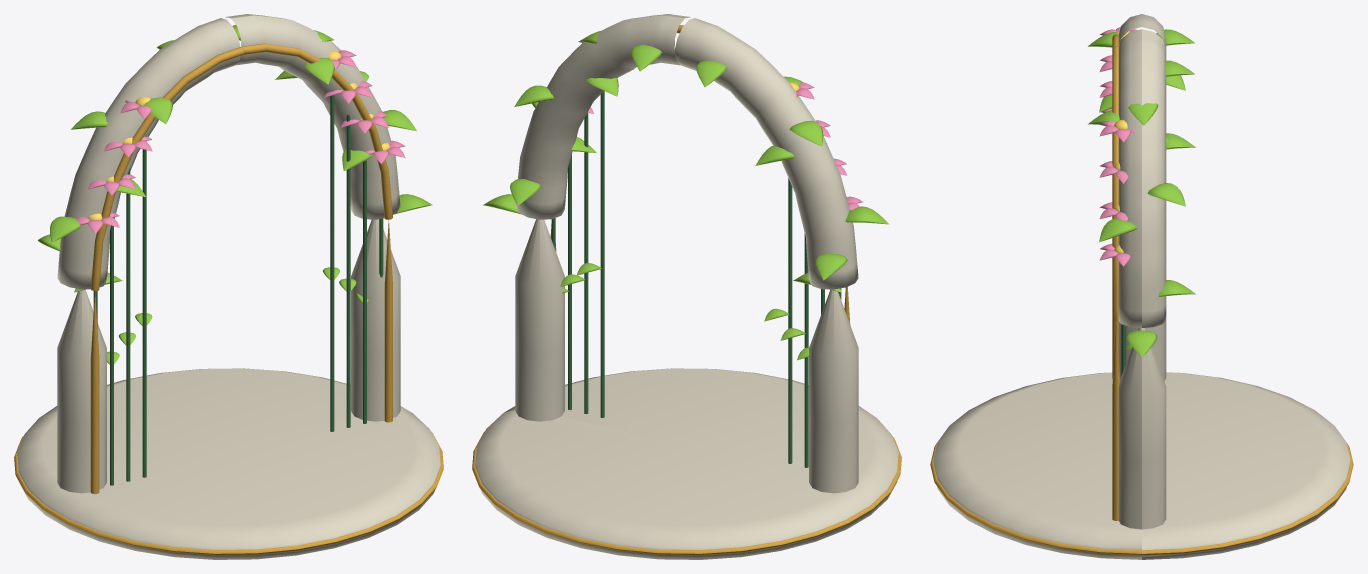
Rendered from coreArch.glb.
The picture shows the model from 3 angles, left to right: view 1: azimuth 30°, elevation 25°; view 2: azimuth 150°, elevation 25°; view 3: azimuth 270°, elevation 25°; orthographic projection.
Visible parts, largest first — view 1: coreArch; view 2: coreArch; view 3: coreArch.
Boxes of the visible parts, x1,y1,x2,y2 form: coreArch: (14, 14, 443, 559); coreArch: (472, 14, 901, 559); coreArch: (930, 14, 1353, 559).
Bounding box in the file's own units: 1.93 × 2.15 × 1.83.
